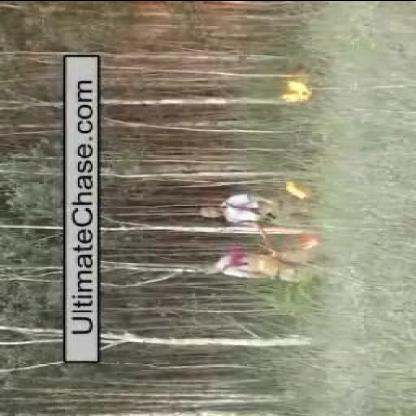foggia-v2-map80-epoch100 - v1 4323: (281, 82, 312, 102)
